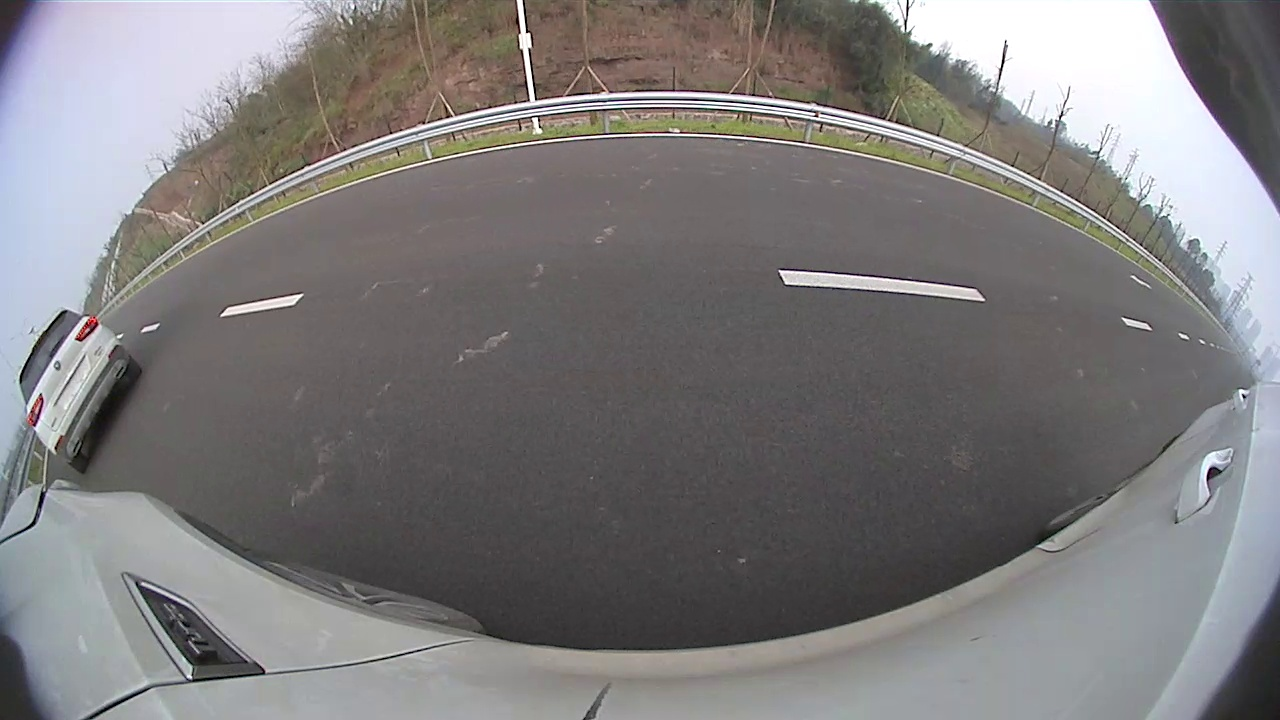car: (18, 309, 143, 474)
